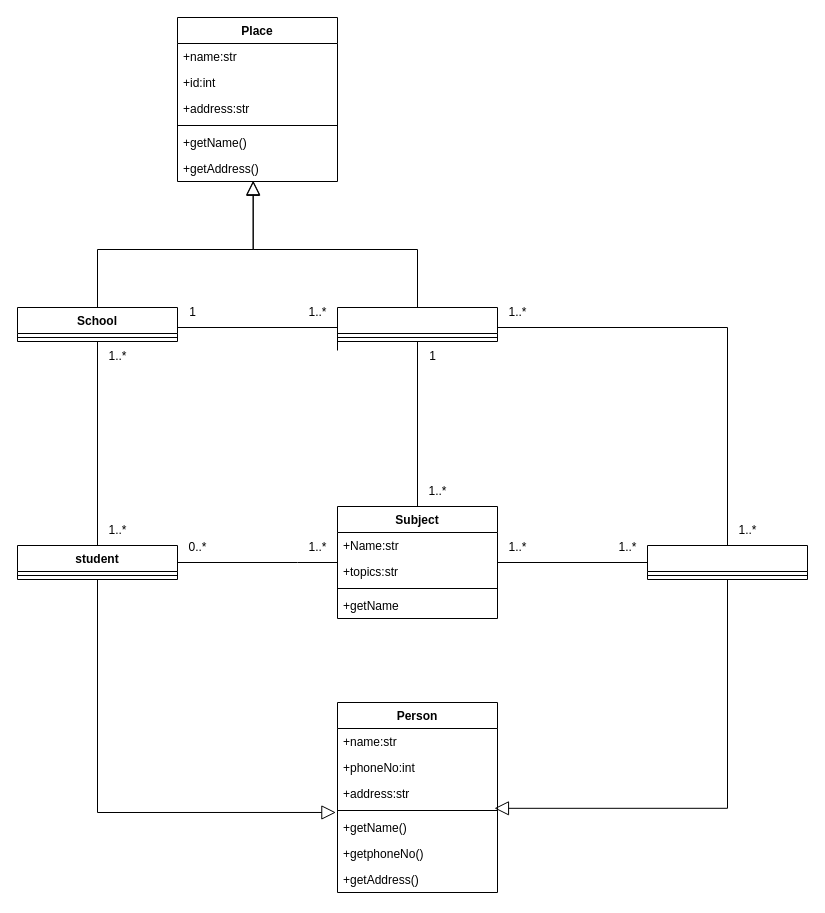
The diagram is 825 pixels wide and 913 high, and some of its shapes have lost their labels. Here are the shapes that lost their labels. From the top down, the centre of each, then its label:
At (417,324): "Department".
At (727,562): "Instructor".
